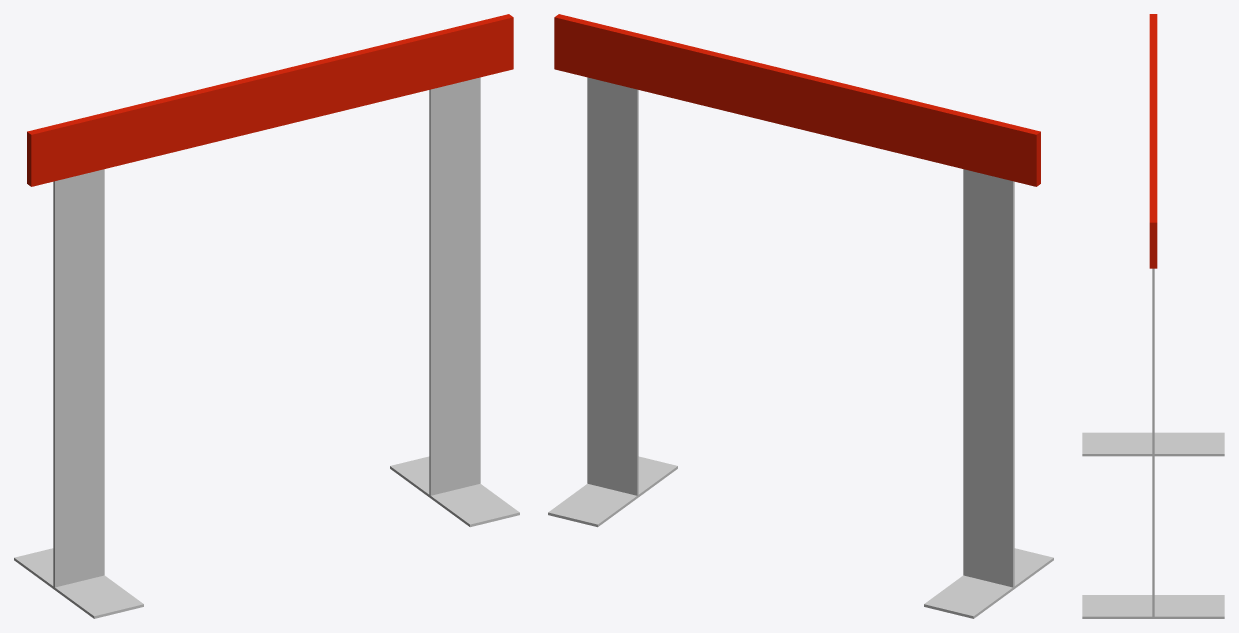
Rendered from barra.fbx.
3 renders of one model, left to right at view 1: azimuth 30°, elevation 25°; view 2: azimuth 150°, elevation 25°; view 3: azimuth 270°, elevation 25°, orthographic. The views are drawn at different scales.
Parts seen in each view (by area): view 1: Cube, Cube.002, Cube.001, Cube.003, Cube.004; view 2: Cube, Cube.001, Cube.002, Cube.003, Cube.004; view 3: Cube.004, Cube.003, Cube, Cube.001.
Boxes of the visible parts, box(x1,y1,x2,y2) form: Cube: box(27, 14, 513, 186); Cube.002: box(53, 169, 104, 588); Cube.001: box(429, 77, 480, 495); Cube.003: box(390, 456, 519, 527); Cube.004: box(14, 548, 143, 618); Cube: box(554, 14, 1040, 186); Cube.001: box(587, 77, 638, 497); Cube.002: box(963, 169, 1014, 588); Cube.003: box(548, 456, 677, 527); Cube.004: box(924, 548, 1053, 618); Cube.004: box(1082, 432, 1224, 456); Cube.003: box(1082, 595, 1224, 618); Cube: box(1149, 14, 1157, 268); Cube.001: box(1152, 268, 1154, 618).
Size of the model in its own units: 1937 by 1775 by 557.
